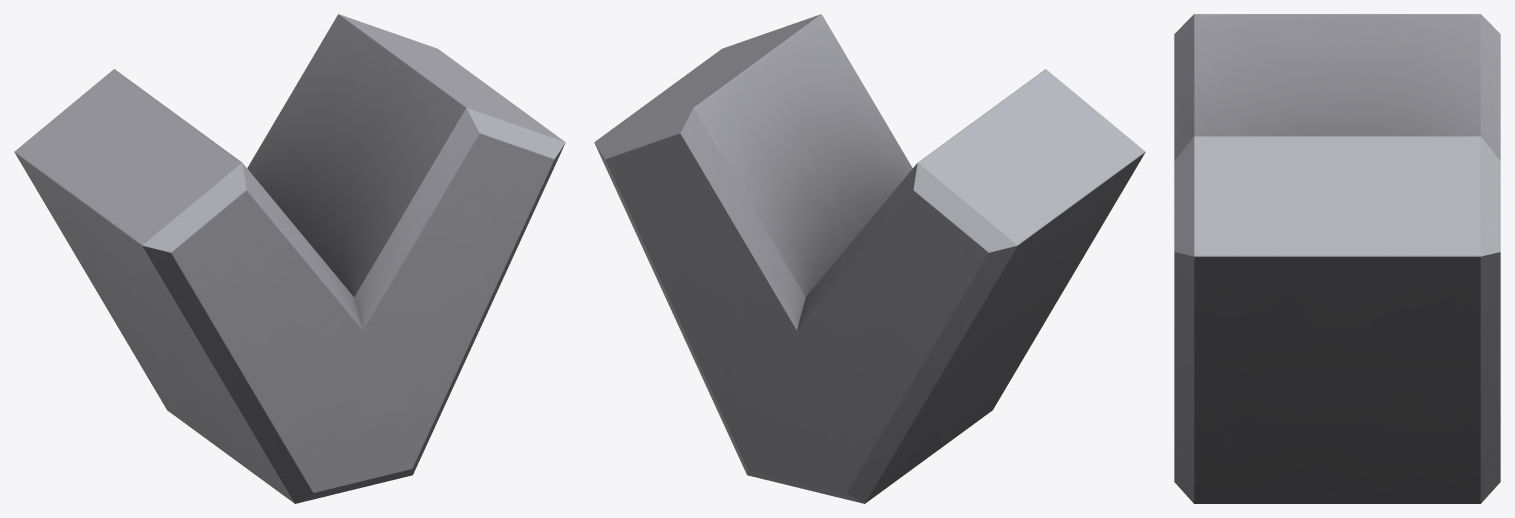
File: Caron.FBX
3 views of the same model, side by side, from view 1: azimuth 30°, elevation 25°; view 2: azimuth 150°, elevation 25°; view 3: azimuth 270°, elevation 25° (orthographic). The views are drawn at different scales.
Parts seen in each view (by area): view 1: Caron; view 2: Caron; view 3: Caron.
Part boxes in pixels (box(x1,y1,x2,y2)): Caron: box(14, 14, 565, 503); Caron: box(594, 14, 1145, 503); Caron: box(1174, 14, 1500, 503).
Bounding box in the file's own units: 55.41 × 44.31 × 33.
